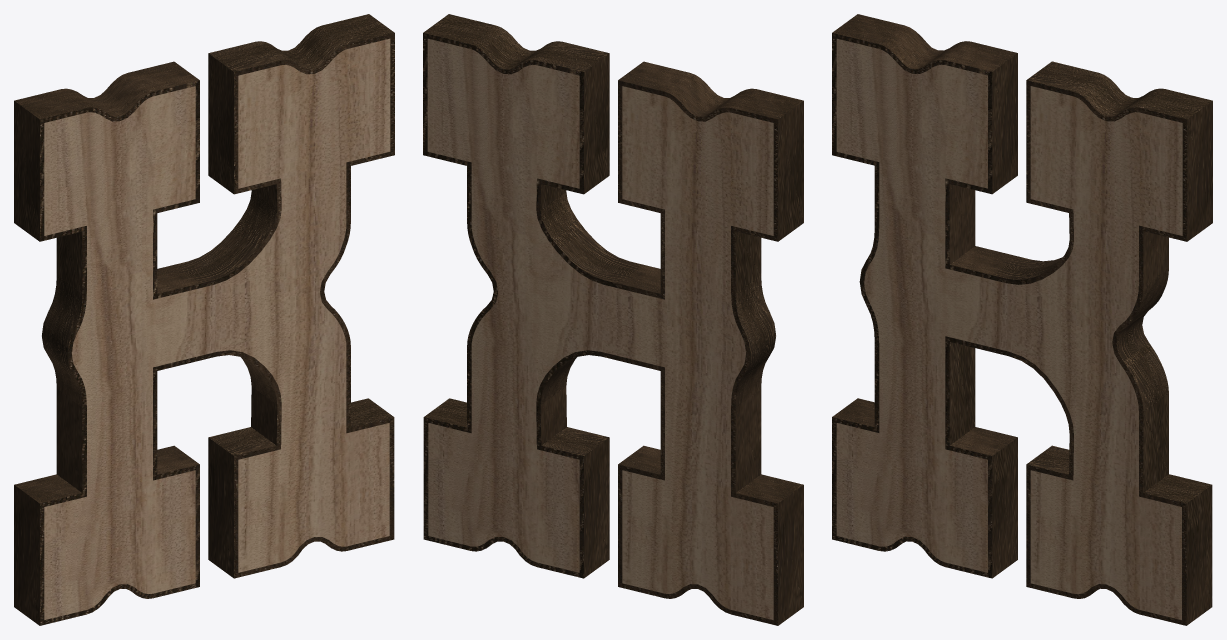
3 views of the same model, side by side, from view 1: azimuth 30°, elevation 25°; view 2: azimuth 150°, elevation 25°; view 3: azimuth 330°, elevation 25° (orthographic).
Visible parts, largest first — view 1: K, K_outline; view 2: K, K_outline; view 3: K, K_outline.
Part boxes in pixels (left/top/right/bottom): K: left=44, top=38, right=390, bottom=619; K_outline: left=14, top=14, right=394, bottom=625; K: left=427, top=38, right=773, bottom=619; K_outline: left=423, top=14, right=803, bottom=625; K: left=836, top=38, right=1182, bottom=619; K_outline: left=832, top=14, right=1212, bottom=625.
Bounding box in the file's own units: 79.79 × 109 × 10.
2 materials, 2 textured.
